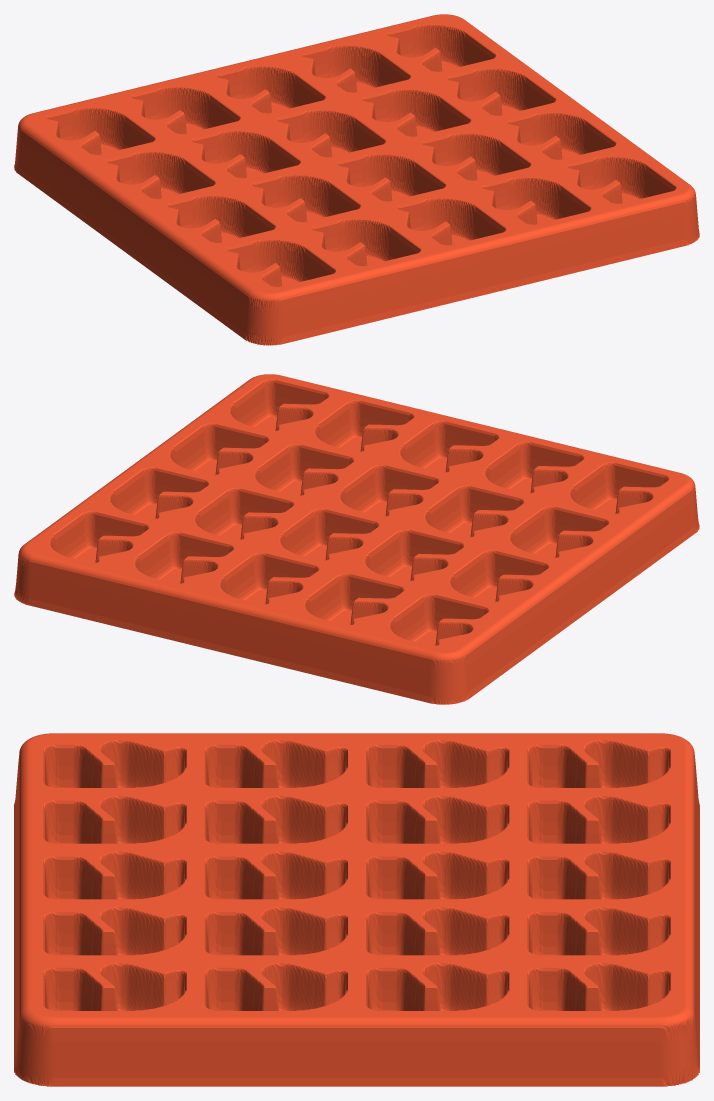
File: mold.glb
3 renders of one model, top to bottom at view 1: azimuth 30°, elevation 25°; view 2: azimuth 150°, elevation 25°; view 3: azimuth 270°, elevation 25°, orthographic. The views are drawn at different scales.
Parts seen in each view (by area): view 1: geometry_0; view 2: geometry_0; view 3: geometry_0.
Boxes of the visible parts, x1=… form: geometry_0: x1=14, y1=14, x2=699, y2=345; geometry_0: x1=14, y1=374, x2=699, y2=704; geometry_0: x1=14, y1=733, x2=699, y2=1086.
Bounding box in the file's own units: 0.1595 × 0.0159 × 0.1563.
